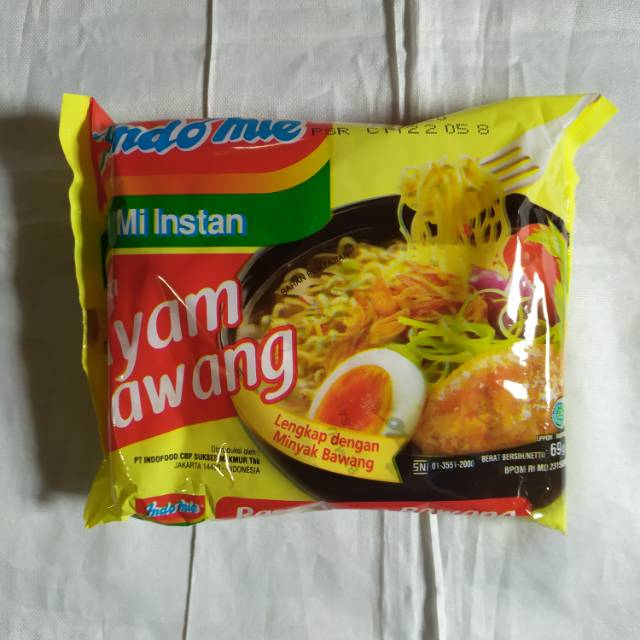Indomie Ayam Bawang (69g): (66, 99, 592, 537)
